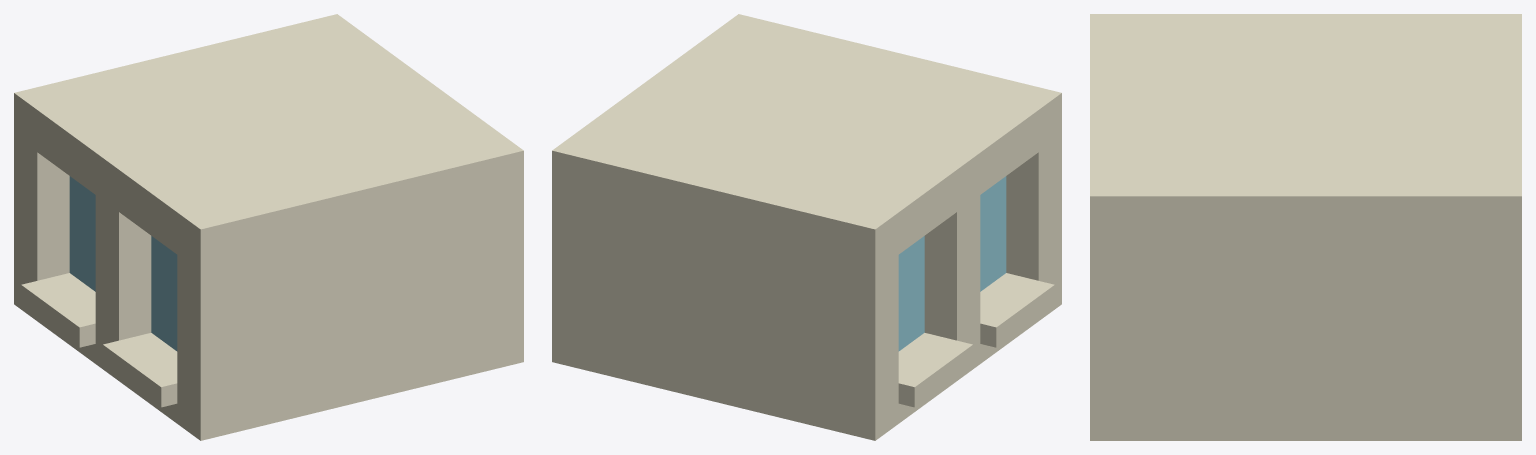
The model's file is modularBuildings_034.fbx.
3 views of the same model, side by side, from view 1: azimuth 30°, elevation 25°; view 2: azimuth 150°, elevation 25°; view 3: azimuth 270°, elevation 25° (orthographic). The views are drawn at different scales.
Parts seen in each view (by area): view 1: Brick.Brick.Mesh1 Group1 Model, Glass.Glass; view 2: Brick.Brick.Mesh1 Group1 Model, Glass.Glass; view 3: Brick.Brick.Mesh1 Group1 Model.
Boxes of the visible parts, left/top/right/bottom form: Brick.Brick.Mesh1 Group1 Model: left=14, top=14, right=523, bottom=440; Glass.Glass: left=69, top=176, right=177, bottom=351; Brick.Brick.Mesh1 Group1 Model: left=552, top=14, right=1061, bottom=440; Glass.Glass: left=898, top=176, right=1006, bottom=351; Brick.Brick.Mesh1 Group1 Model: left=1090, top=14, right=1521, bottom=440.
Bounding box in the file's own units: 1.05 × 0.625 × 1.
